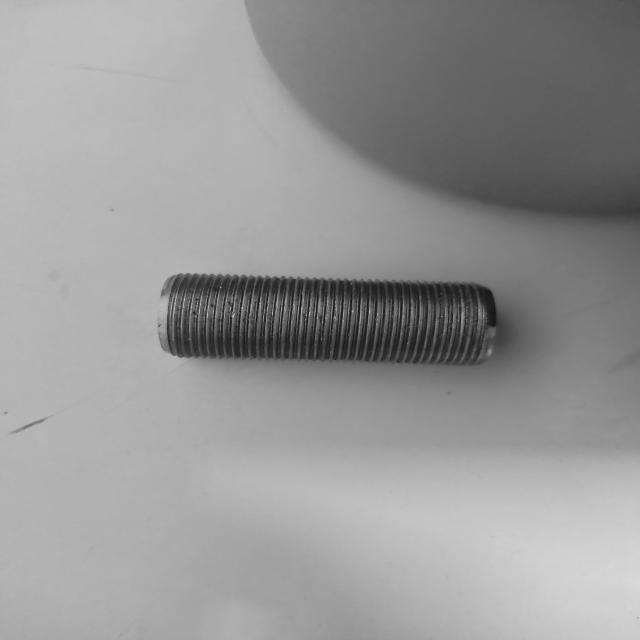Normal: (156, 271, 496, 367)
